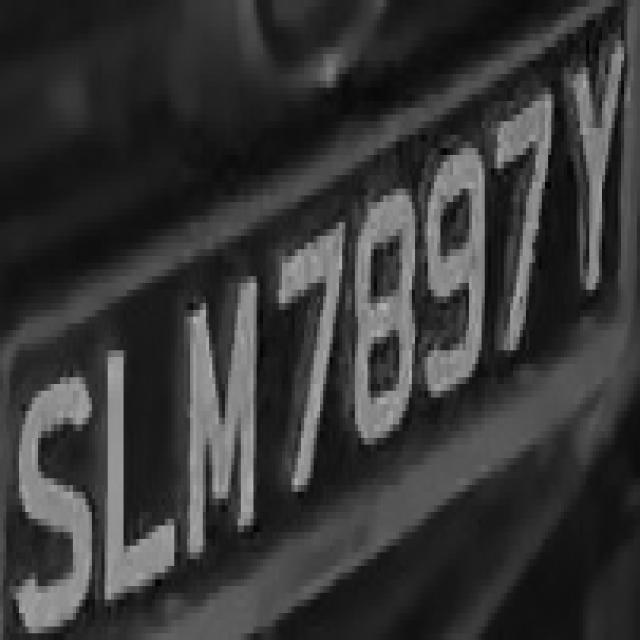7: (269, 215, 352, 526), (484, 88, 558, 364)
8: (348, 182, 424, 478)
9: (415, 148, 497, 424)
L: (92, 310, 180, 613)
M: (180, 276, 260, 559)
Y: (554, 41, 634, 316)
